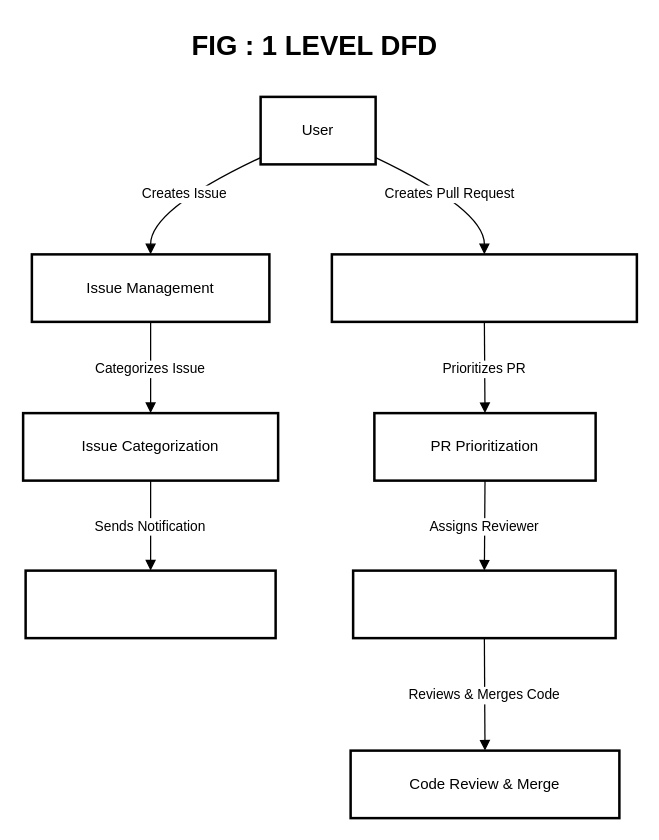
This 659x840 diagram has some shape labels left out. Here are the shapes that lost their labels. From the top down, the centre of each, then its label:
point (484, 287): Code Editing (Editor)
point (150, 604): Notification System
point (483, 604): Reviewer Assignment
